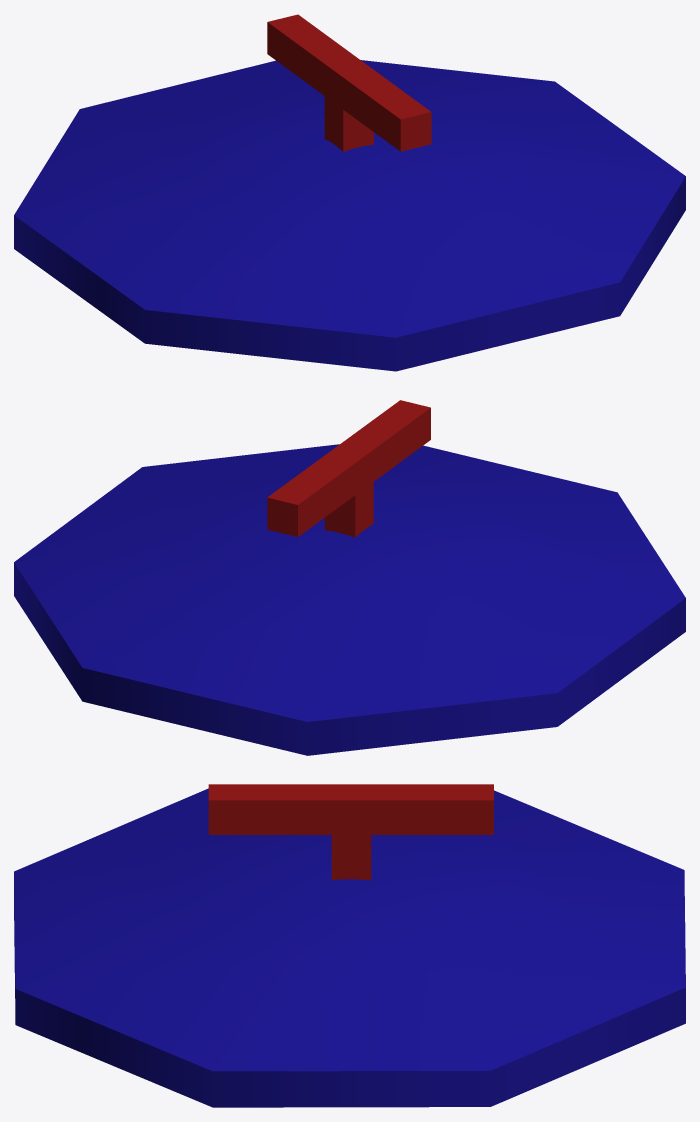
File: SM_CouvercleMarmitte.FBX
3 views of the same model, one above another, from view 1: azimuth 30°, elevation 25°; view 2: azimuth 150°, elevation 25°; view 3: azimuth 270°, elevation 25° (orthographic). The views are drawn at different scales.
Parts seen in each view (by area): view 1: SM_CouvercleMarmitte; view 2: SM_CouvercleMarmitte; view 3: SM_CouvercleMarmitte.
Boxes of the visible parts, x1,y1,x2,y2 form: SM_CouvercleMarmitte: (14, 14, 685, 371); SM_CouvercleMarmitte: (14, 400, 685, 755); SM_CouvercleMarmitte: (14, 784, 685, 1107).
Bounding box in the file's own units: 35.33 × 10.06 × 35.33.
